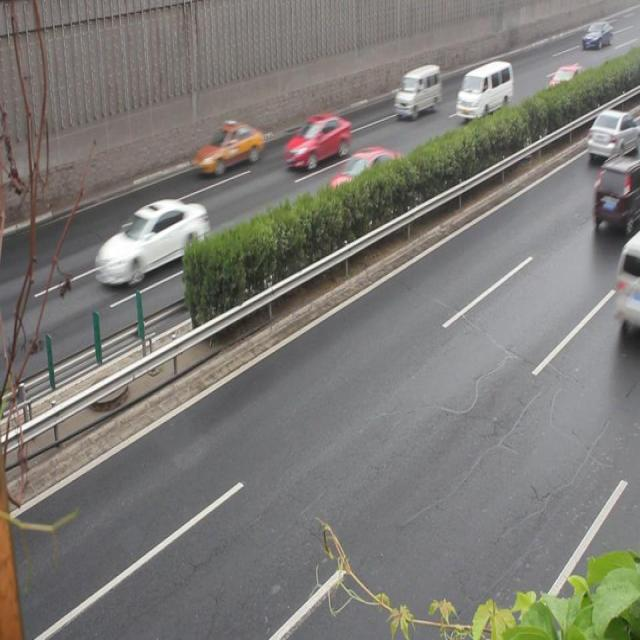car: (94, 197, 207, 277), (326, 146, 407, 208), (281, 113, 350, 168), (592, 156, 640, 233), (193, 120, 261, 172), (582, 107, 640, 155)
